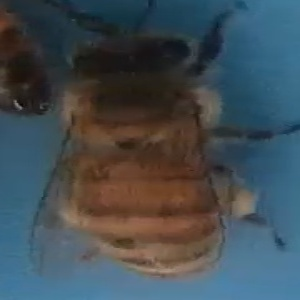bee: (57, 20, 297, 284)
